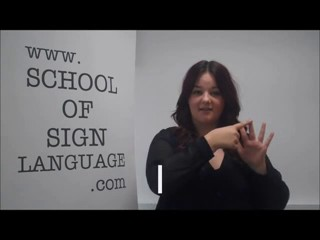I: (215, 118, 284, 175)
